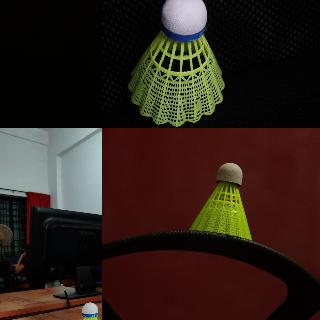shuttlecock: (127, 0, 225, 127), (189, 163, 251, 239), (72, 302, 101, 319)
